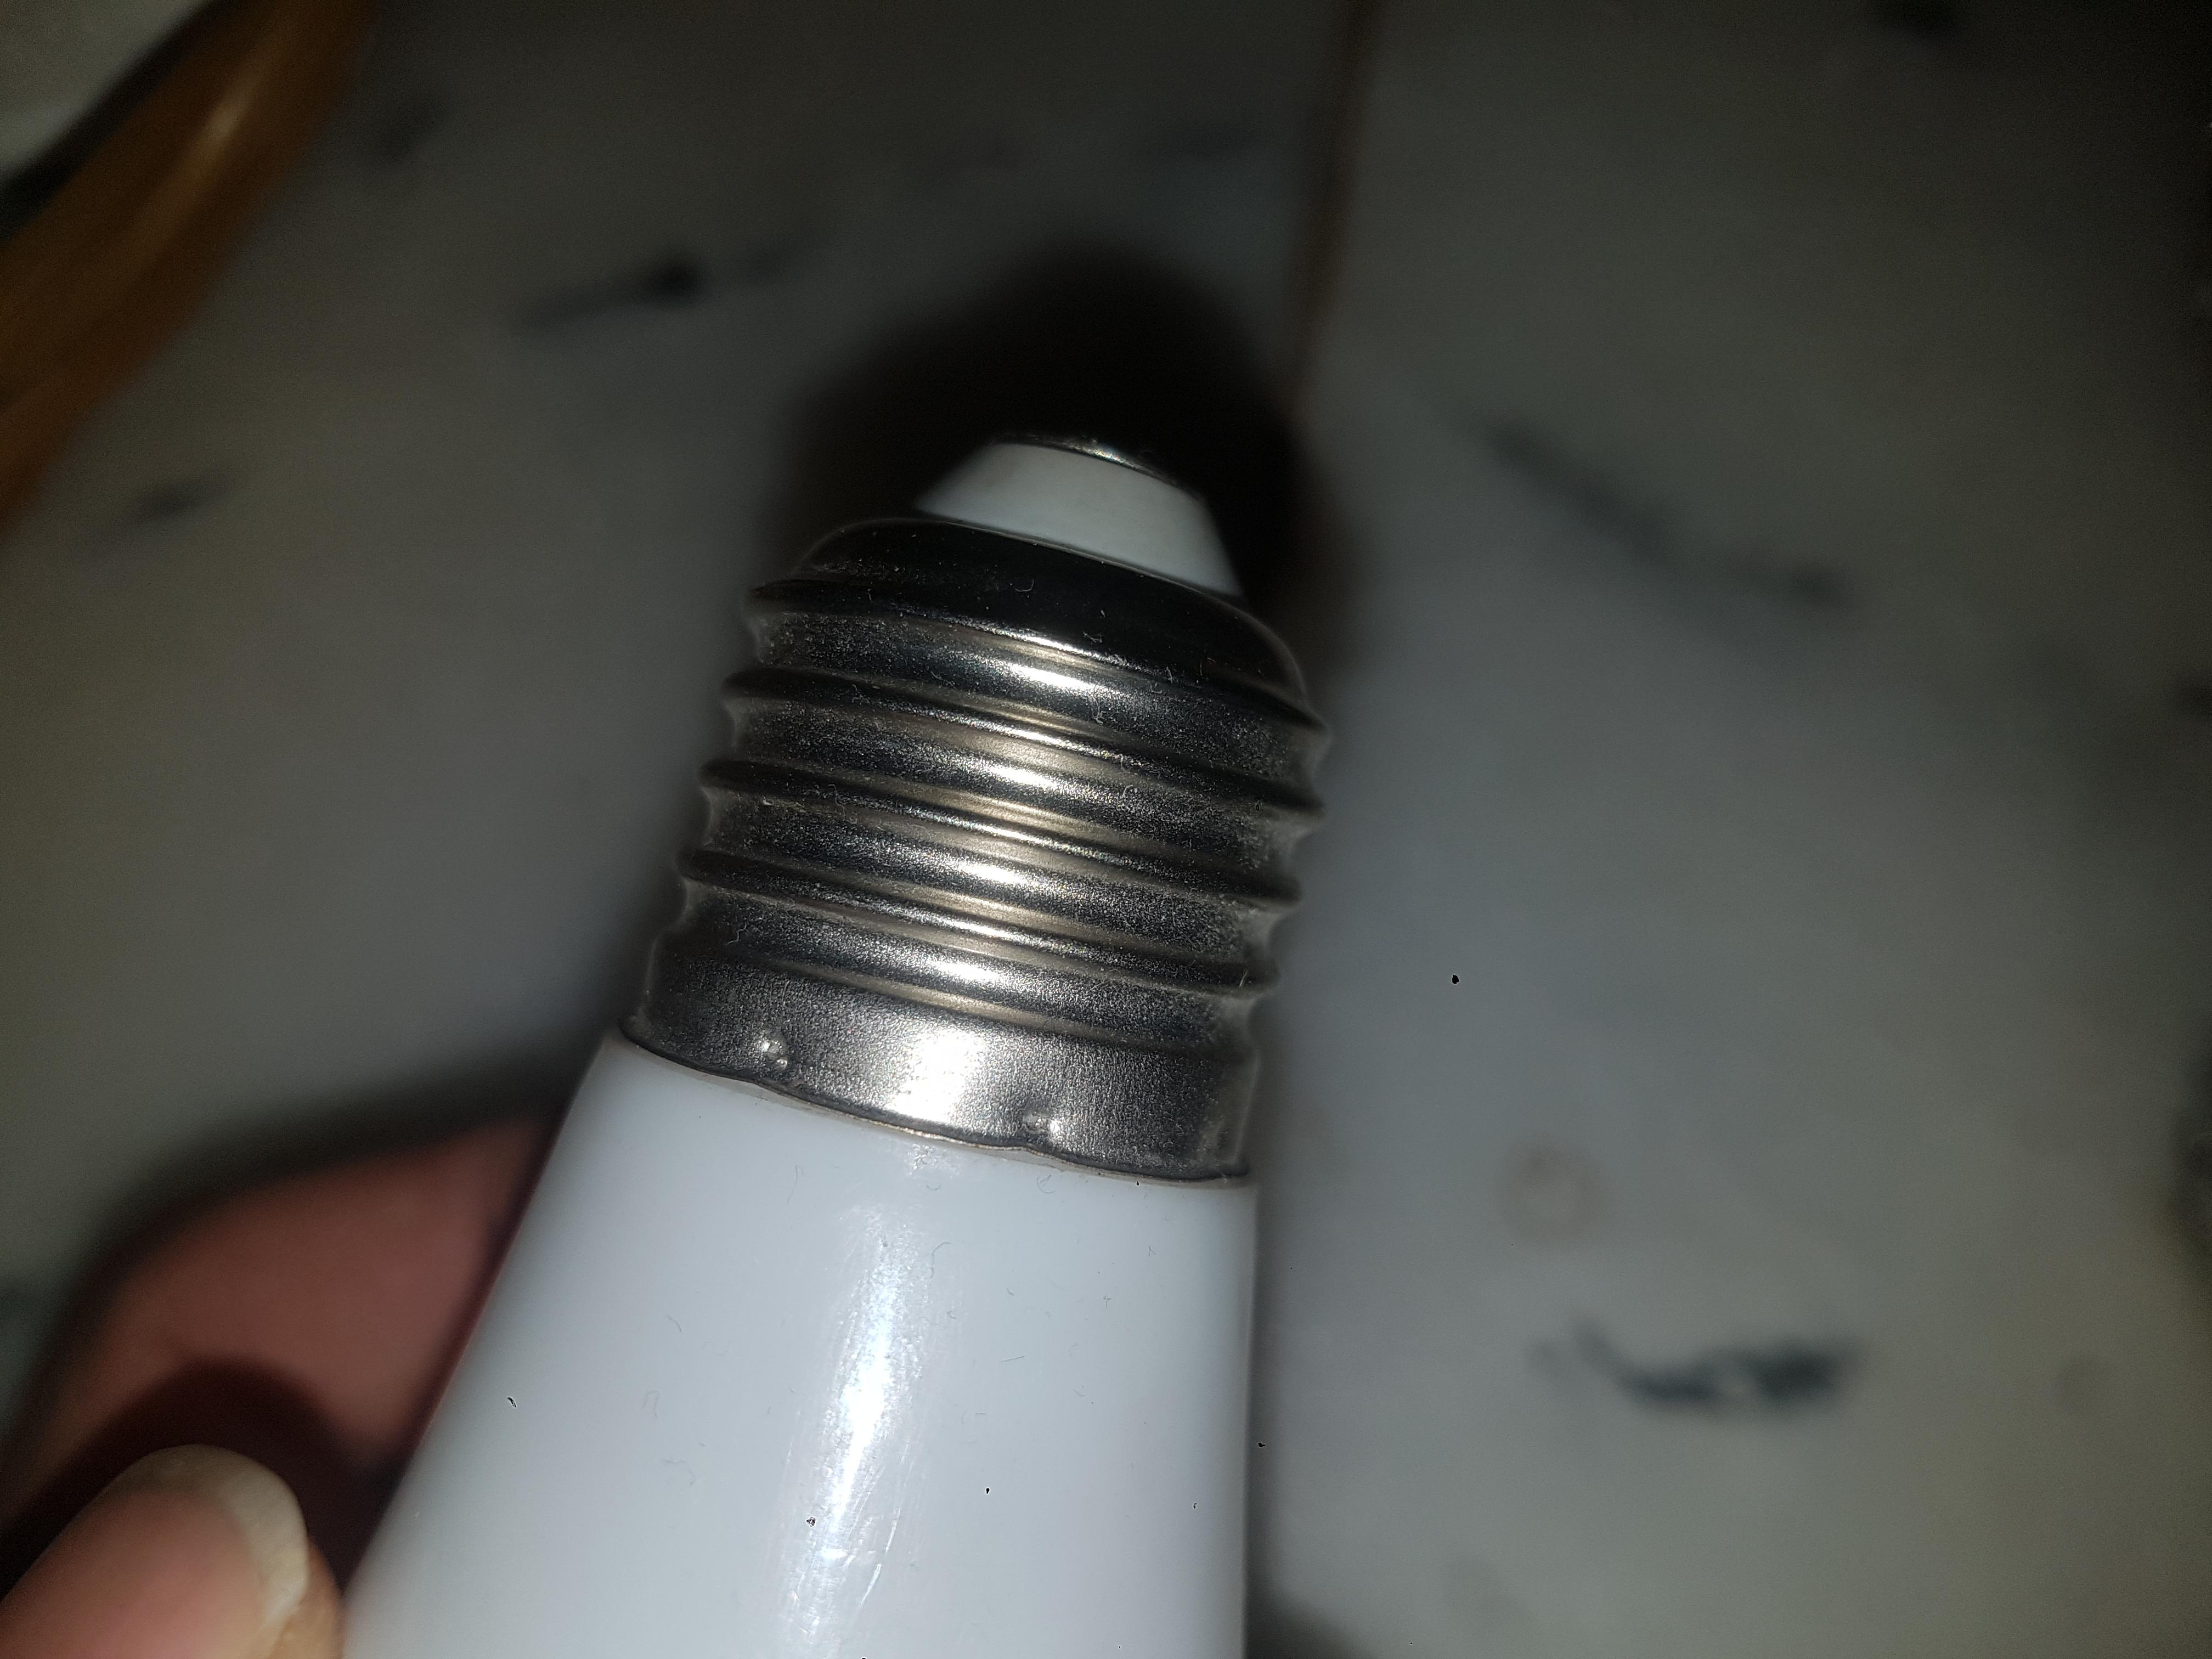light bulb: (329, 423, 1338, 1659)
